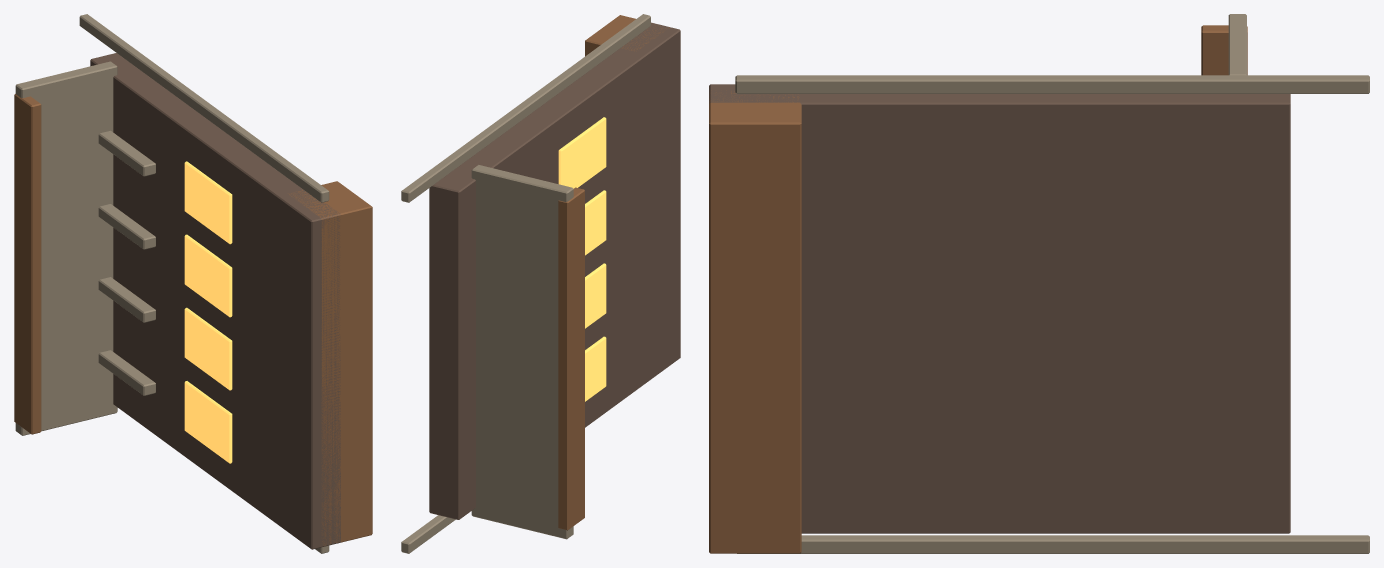
File: facade_overhang_r.glb
The picture shows the model from 3 angles, left to right: view 1: azimuth 30°, elevation 25°; view 2: azimuth 150°, elevation 25°; view 3: azimuth 270°, elevation 25°; orthographic projection. The views are drawn at different scales.
Parts seen in each view (by area): view 1: FacadeOverhang_R; view 2: FacadeOverhang_R; view 3: FacadeOverhang_R.
Boxes of the visible parts, bbox=[...] form: FacadeOverhang_R: bbox=[14, 14, 372, 553]; FacadeOverhang_R: bbox=[401, 14, 680, 553]; FacadeOverhang_R: bbox=[709, 14, 1369, 553].
Bounding box in the file's own units: 1.76 × 3.96 × 5.
